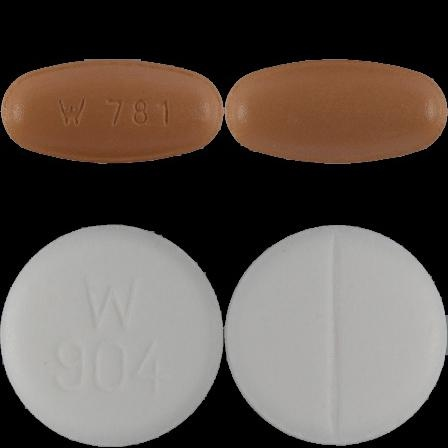64679-781: (0, 0, 224, 224)
